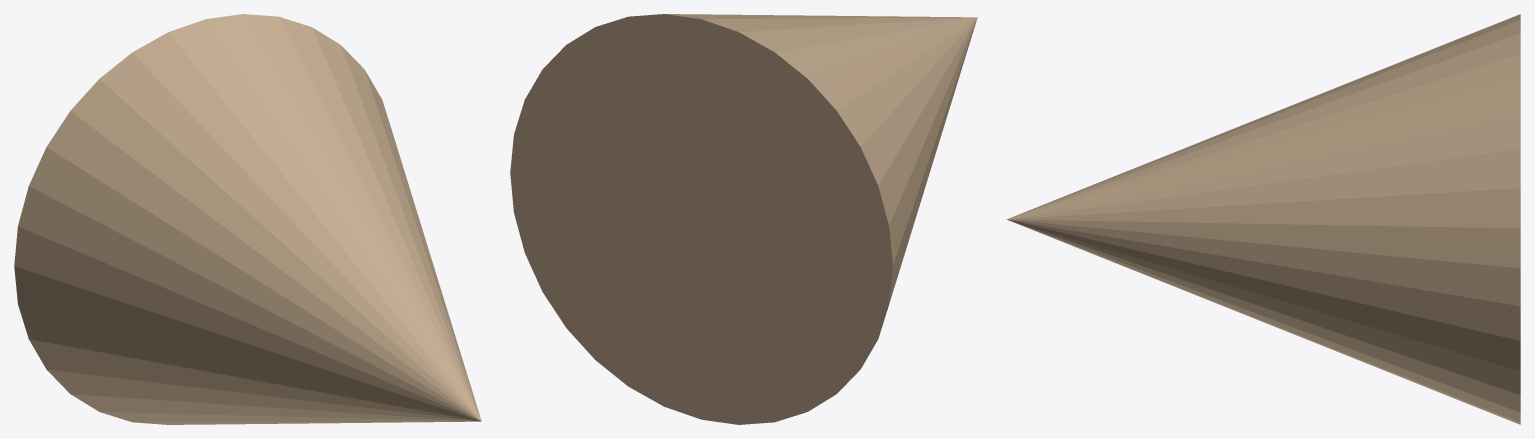
The picture shows the model from 3 angles, left to right: view 1: azimuth 30°, elevation 25°; view 2: azimuth 150°, elevation 25°; view 3: azimuth 270°, elevation 25°; orthographic projection. The views are drawn at different scales.
Visible parts, largest first — view 1: world; view 2: world; view 3: world.
Part boxes in pixels (x1,y1,x2,y2): world: [14, 14, 481, 424]; world: [510, 14, 977, 424]; world: [1006, 14, 1520, 424].
Size of the model in its own units: 2 by 2 by 2.5.
